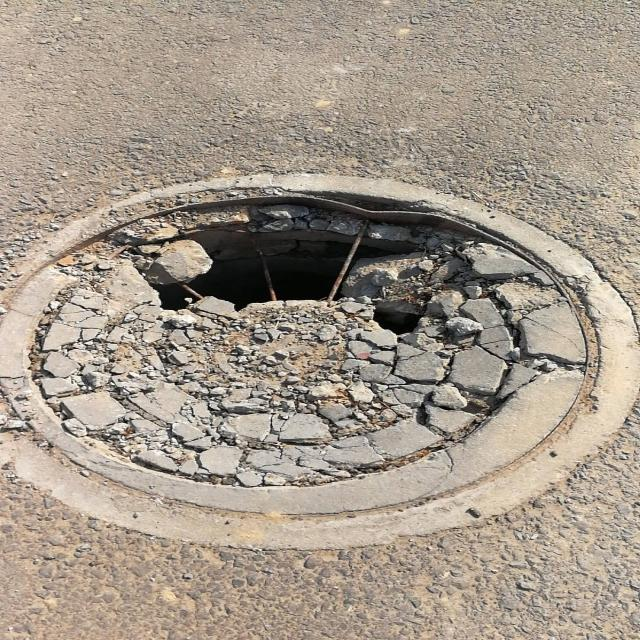Faulty: (1, 176, 640, 549)
